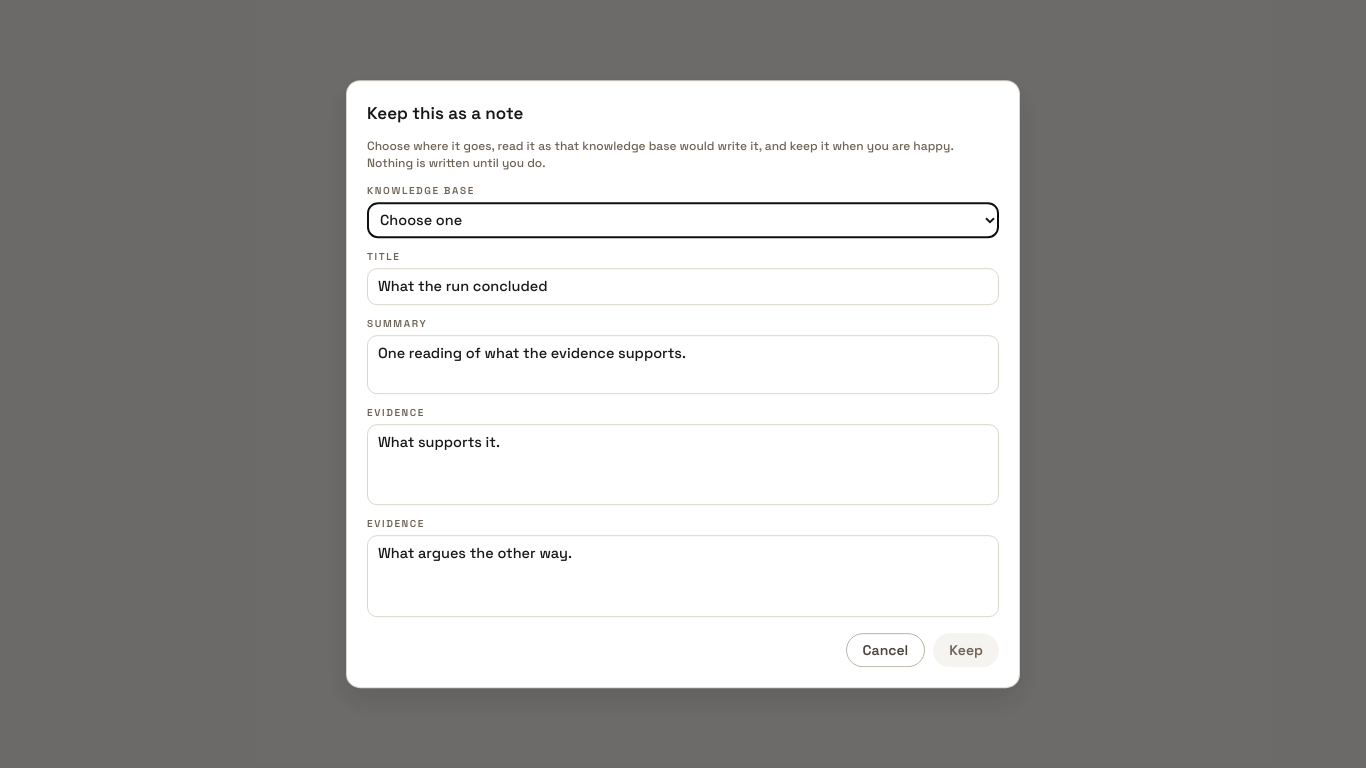
Test case: SaveArtifactNote › gives every section its own field even when two of them share a heading
Select "notebook" in the dropdown labelled "Knowledge base": [683, 221] box [367,203,999,239]
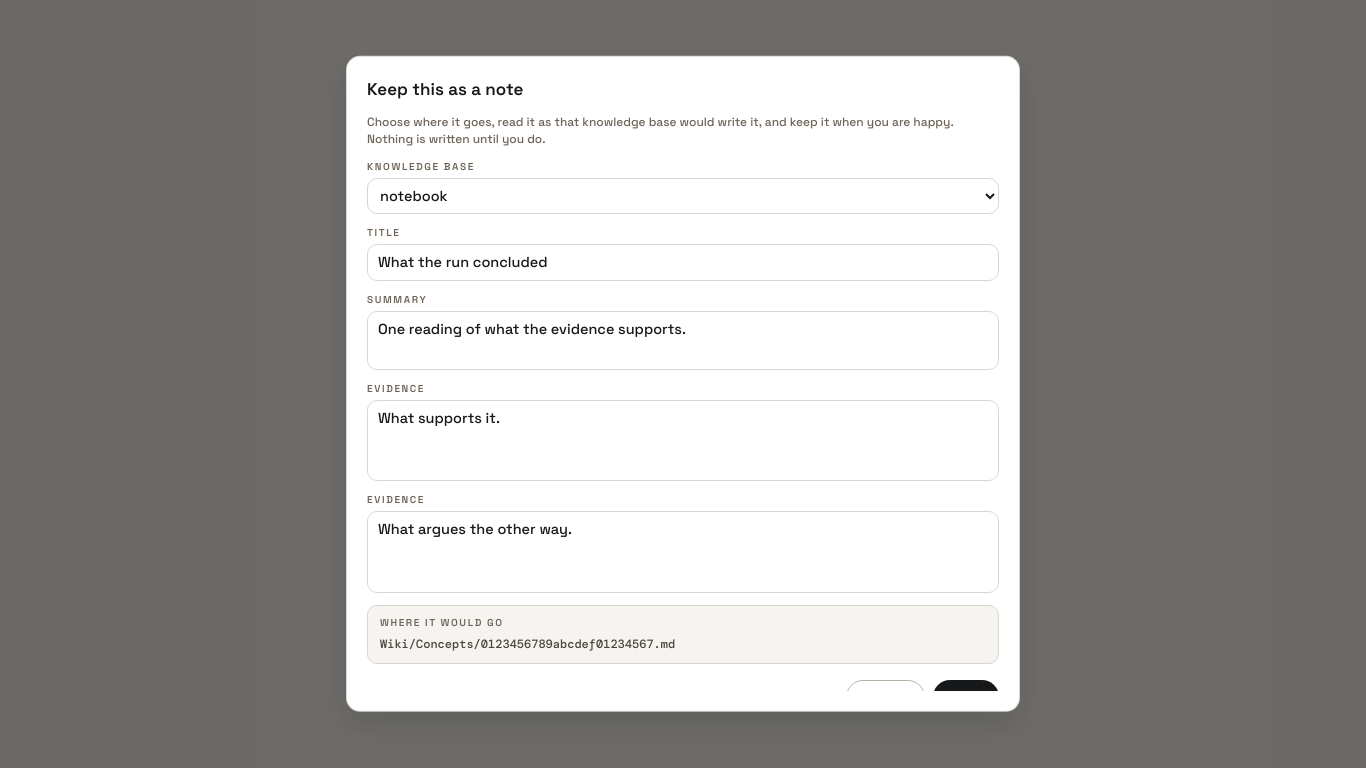
Check: the number of text boxes labelled "Evidence" is 2, box [367,400,999,481]; [367,511,999,592]
Check: the text "Wiki/Concepts/0123456789abcdef01234567.md" is shown, box [380,635,675,651]
